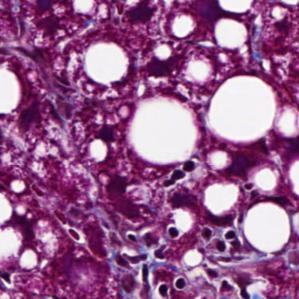inflammation: (118, 227, 170, 267), (160, 155, 197, 194), (198, 224, 239, 255), (156, 273, 189, 298)
